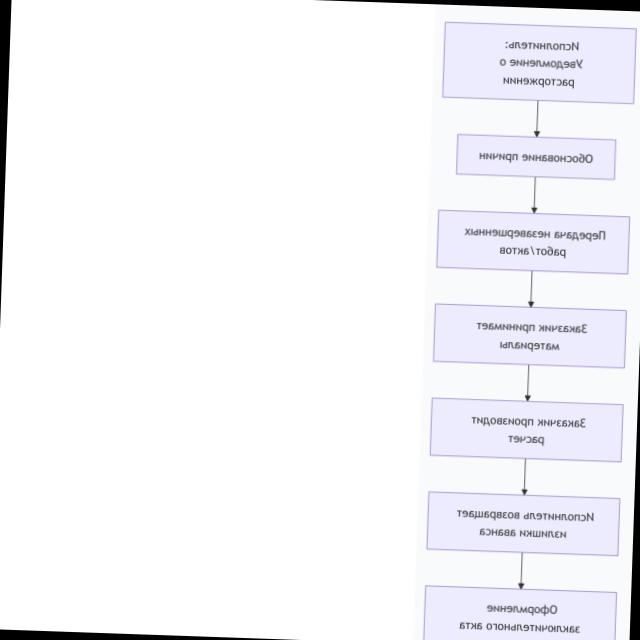arrow: (524, 365, 529, 401), (517, 553, 522, 589), (531, 178, 536, 213), (521, 460, 526, 495), (533, 102, 538, 136), (528, 272, 532, 307)
rectangle: (441, 22, 635, 103), (435, 210, 628, 274), (429, 398, 622, 462), (426, 492, 618, 555), (432, 305, 625, 367), (422, 586, 615, 639), (456, 134, 615, 180)
